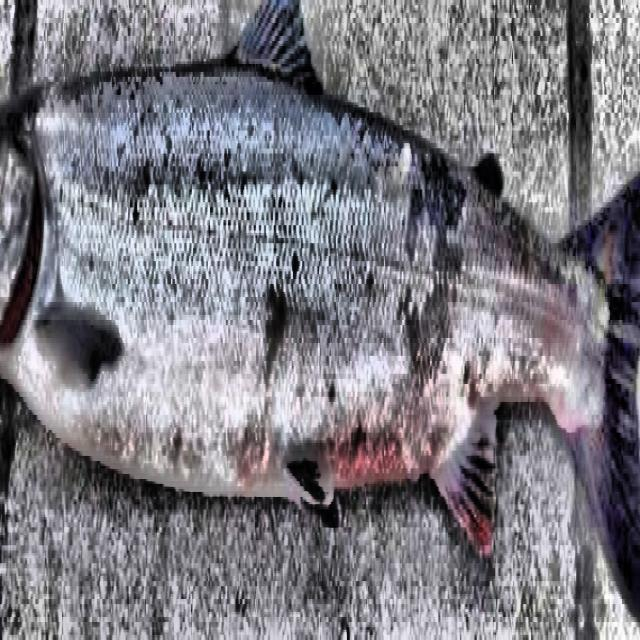mild_red: (4, 69, 598, 492)
wound: (0, 162, 44, 344)
